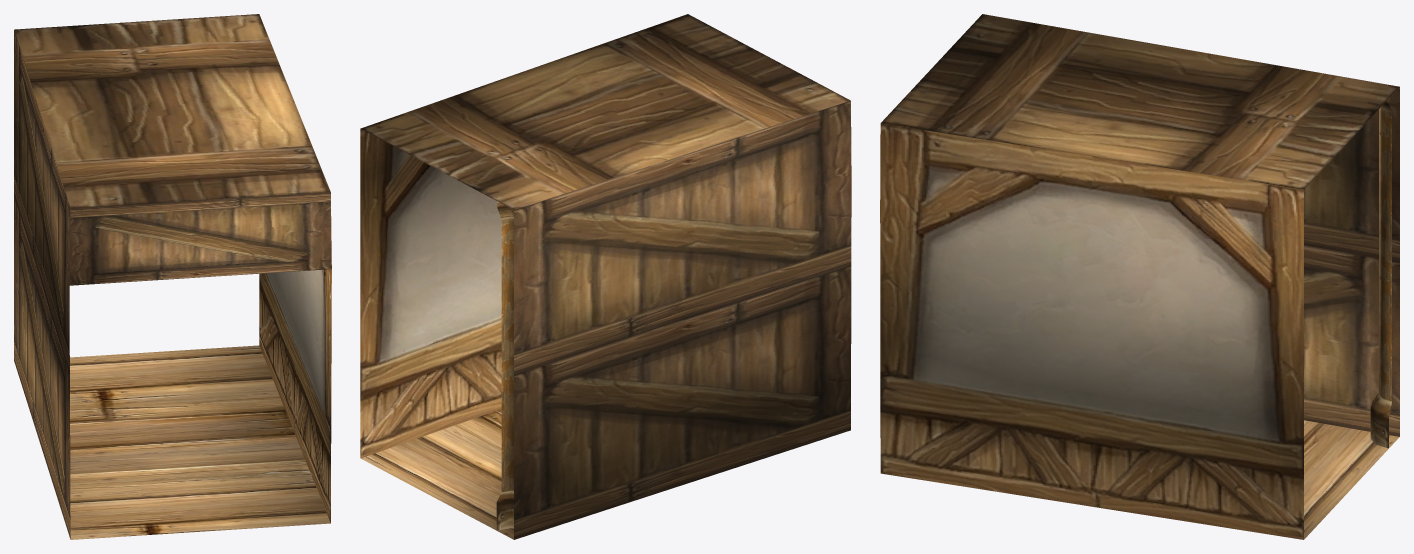
The model's file is stormwind_229.fbx.
3 renders of one model, left to right at view 1: azimuth 30°, elevation 25°; view 2: azimuth 150°, elevation 25°; view 3: azimuth 270°, elevation 25°, orthographic. The views are drawn at different scales.
Visible parts, largest first — view 1: stormwind_229_55, stormwind_229_51, stormwind_229_56, stormwind_229_48; view 2: stormwind_229_56, stormwind_229_55, stormwind_229_48, stormwind_229_51, stormwind_229_53; view 3: stormwind_229_48, stormwind_229_55, stormwind_229_56, stormwind_229_51, stormwind_229_53.
Boxes of the visible parts, x1=… form: stormwind_229_55: x1=14, y1=14, x2=330, y2=208; stormwind_229_51: x1=70, y1=345, x2=330, y2=539; stormwind_229_56: x1=14, y1=30, x2=331, y2=539; stormwind_229_48: x1=259, y1=269, x2=331, y2=523; stormwind_229_56: x1=514, y1=100, x2=851, y2=539; stormwind_229_55: x1=360, y1=14, x2=850, y2=209; stormwind_229_48: x1=360, y1=129, x2=501, y2=458; stormwind_229_51: x1=361, y1=409, x2=513, y2=539; stormwind_229_53: x1=496, y1=201, x2=513, y2=530; stormwind_229_48: x1=880, y1=123, x2=1303, y2=539; stormwind_229_55: x1=881, y1=14, x2=1399, y2=189; stormwind_229_56: x1=1304, y1=87, x2=1399, y2=436; stormwind_229_51: x1=1304, y1=420, x2=1399, y2=539; stormwind_229_53: x1=1370, y1=98, x2=1391, y2=448.
Size of the model in its own units: 6.42 by 5.95 by 8.
